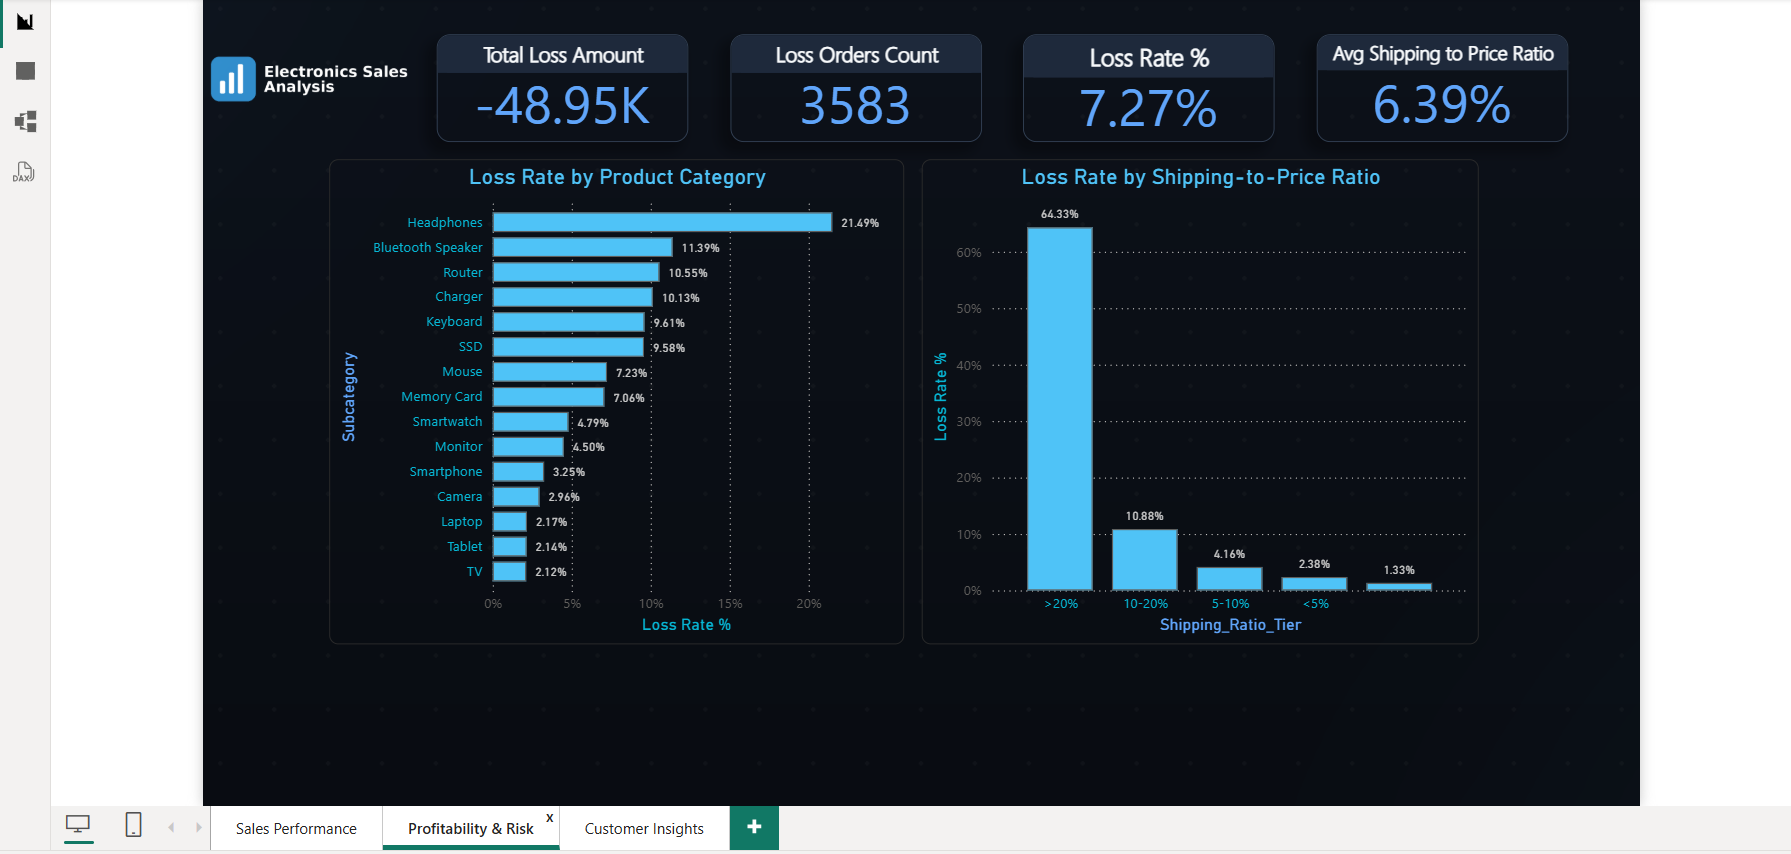

What the dashboard file says about the page in this screenshot:
{"tool":"powerbi","page":{"name":"Profitability & Risk","canvas":[1280,720],"ordinal":1},"visuals":[{"type":"card","title":"Total Loss Amount","fields":{"Values":["final_dashboard_data.Total Loss Amount"]},"box":[208,32,224,96],"z":0},{"type":"card","title":"Avg Shipping to Price Ratio","fields":{"Values":["final_dashboard_data.Avg Shipping to Price Ratio"]},"box":[992,32,224,96],"z":1000},{"type":"card","title":"Loss Orders Count","fields":{"Values":["final_dashboard_data.Loss Orders Count"]},"box":[469.3,32,224,96],"z":2000},{"type":"card","title":"Loss Rate %","fields":{"Values":["final_dashboard_data.Loss Rate %"]},"box":[730.7,32,224,96],"z":3000},{"type":"clusteredColumnChart","title":"Loss Rate by Shipping-to-Price Ratio","fields":{"Category":["final_dashboard_data.Shipping_Ratio_Tier"],"Y":["final_dashboard_data.Loss Rate %"]},"box":[640,144,496,432],"z":4000},{"type":"clusteredBarChart","title":"Loss Rate by Product Category","fields":{"Y":["final_dashboard_data.Loss Rate %"],"Category":["final_dashboard_data.Subcategory"]},"box":[112,144,512,432],"z":5000},{"type":"image","box":[0,0,192,144],"z":5001}]}

Visuals, with their boxes on the page's 1280x720 design canvas (x1, y1, x2, y2). These are canvas units, not pixel positions in the 1791x854 screenshot, which may show the page scaled, cropped or inside an application window:
"Total Loss Amount" card: rect(208, 32, 432, 128)
"Avg Shipping to Price Ratio" card: rect(992, 32, 1216, 128)
"Loss Orders Count" card: rect(469, 32, 693, 128)
"Loss Rate %" card: rect(731, 32, 955, 128)
"Loss Rate by Shipping-to-Price Ratio" clusteredColumnChart: rect(640, 144, 1136, 576)
"Loss Rate by Product Category" clusteredBarChart: rect(112, 144, 624, 576)
image: rect(0, 0, 192, 144)
